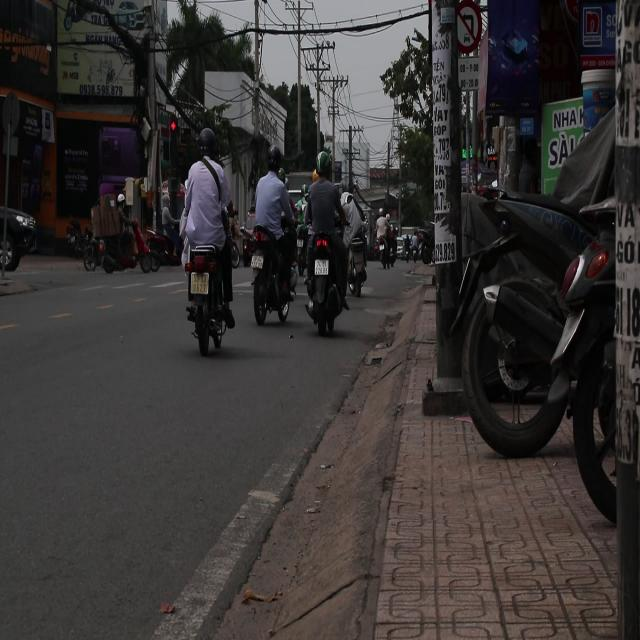car: (234, 196, 283, 280), (0, 202, 38, 273)
motorbike: (185, 238, 235, 357), (301, 225, 349, 336), (94, 206, 156, 291), (250, 226, 298, 329), (143, 206, 198, 282), (338, 206, 370, 311), (366, 212, 404, 276)
